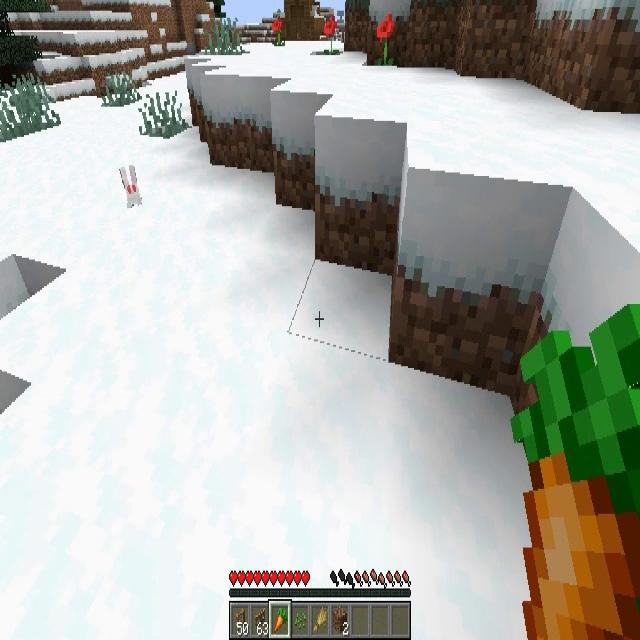flower: (376, 12, 394, 63), (324, 18, 336, 51), (273, 16, 284, 44)
rabbit: (118, 165, 142, 210)
